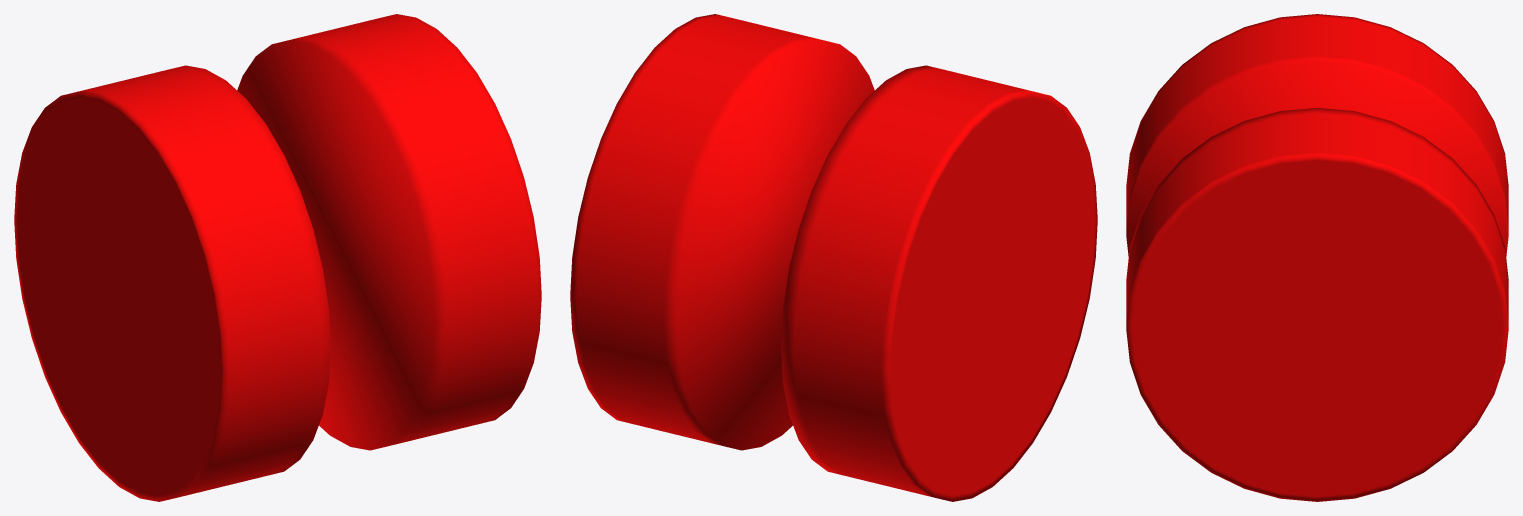
3 renders of one model, left to right at view 1: azimuth 30°, elevation 25°; view 2: azimuth 150°, elevation 25°; view 3: azimuth 270°, elevation 25°, orthographic. The views are drawn at different scales.
Visible parts, largest first — view 1: base_column_receptor_visual; view 2: base_column_receptor_visual; view 3: base_column_receptor_visual.
Boxes of the visible parts, box(x1,y1,x2,y2) form: base_column_receptor_visual: box(14, 14, 541, 501); base_column_receptor_visual: box(570, 14, 1097, 501); base_column_receptor_visual: box(1126, 14, 1508, 501).
Size of the model in its own units: 0.1565 by 0.1793 by 0.1793.
